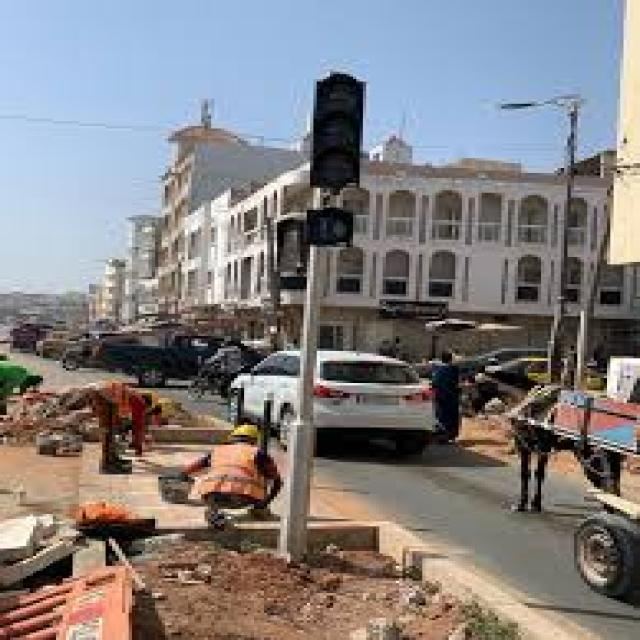charette: (512, 386, 640, 605)
feu: (311, 74, 366, 196), (306, 205, 353, 292)
particulier: (316, 351, 437, 451), (69, 340, 220, 387), (231, 352, 301, 445)
